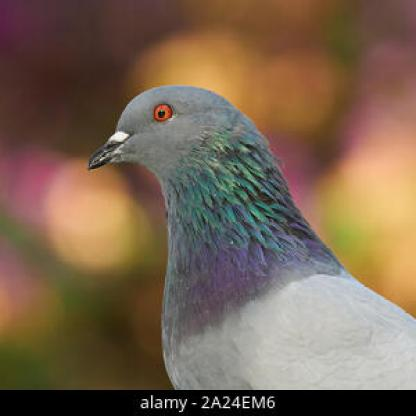Rock Pigeon: (84, 80, 407, 387)
